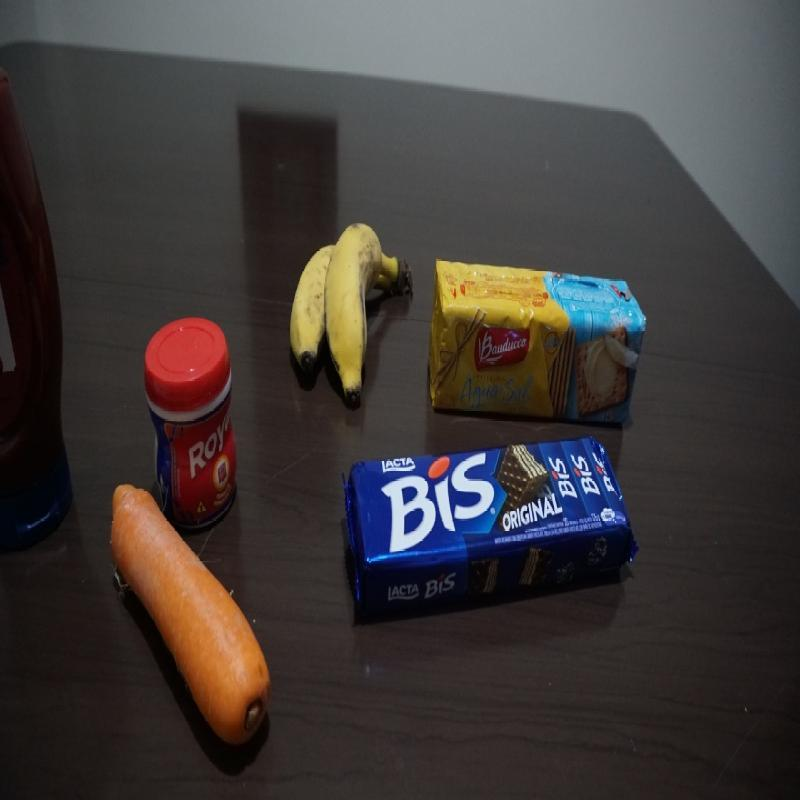Banana: (288, 221, 413, 413)
Carrot: (108, 482, 272, 753)
Cracker: (427, 258, 646, 430)
Ketchup: (1, 59, 76, 564)
Yeast: (142, 315, 239, 527)
